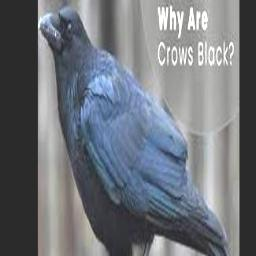Crow: (38, 7, 239, 256)
